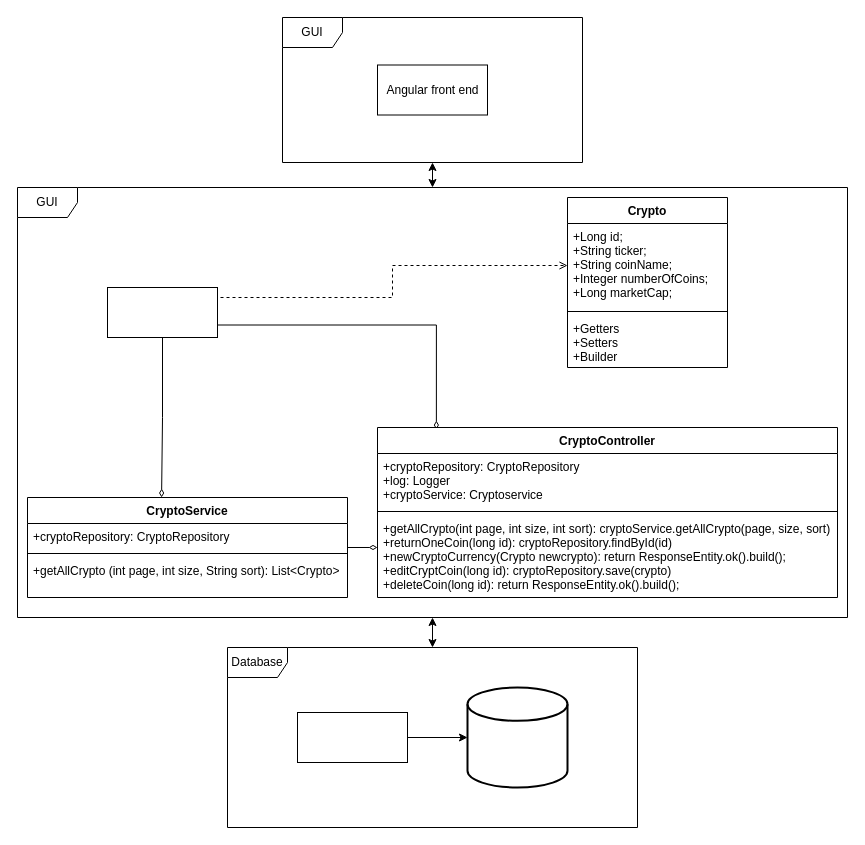
This 865x845 diagram has some shape labels left out. The shapes that lost their labels are listed below. From the top down, each one's centre as x and y in pixels, then its label:
the point at 162,312: «interface» CryptoRepository
the point at 352,737: data.sql
the point at 517,737: H2 database
